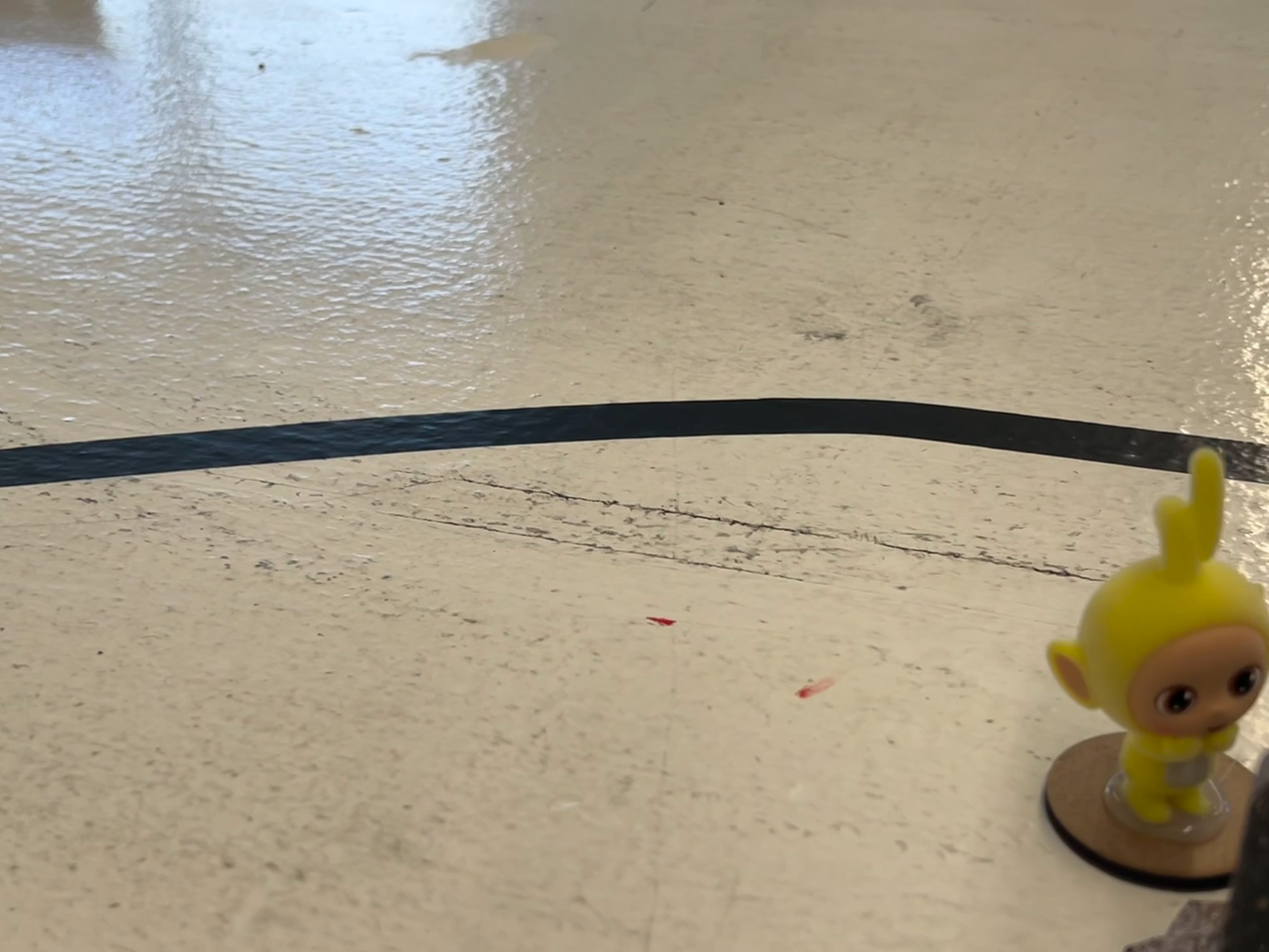teletubby: (1047, 450, 1268, 823)
